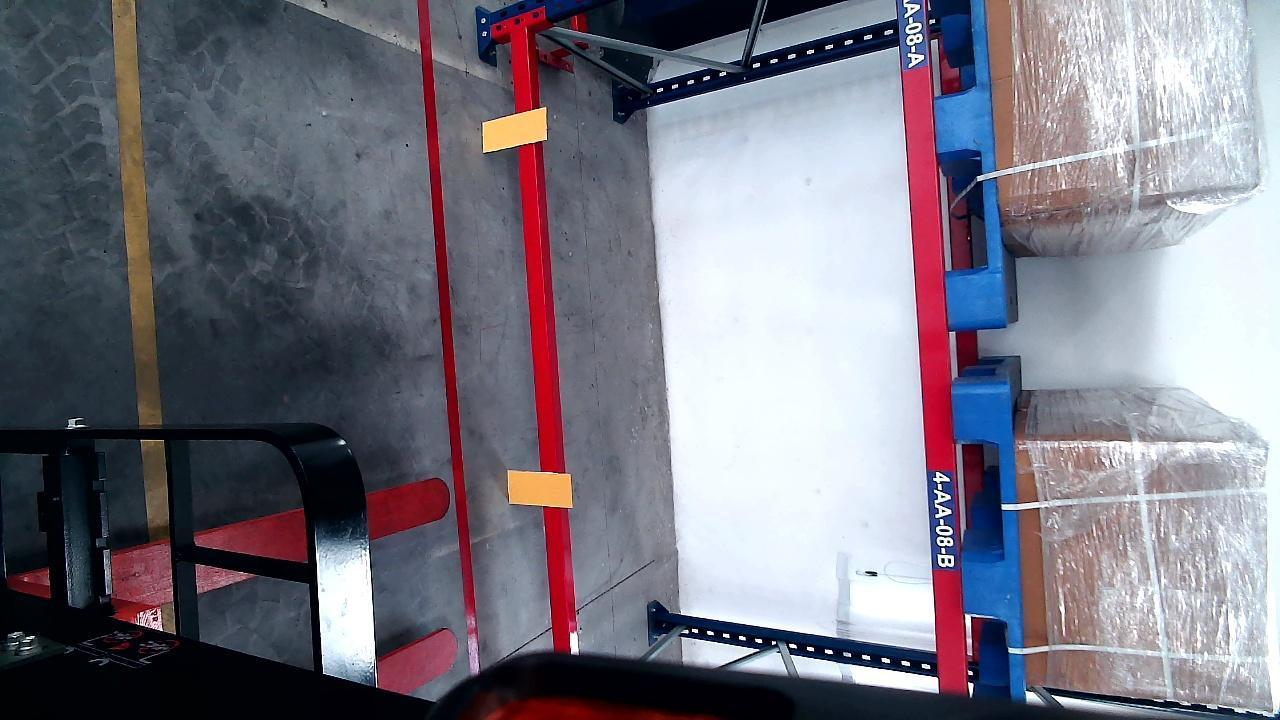h_rack: (514, 22, 572, 659)
orange_strip: (480, 108, 547, 153), (507, 470, 572, 508)
red_line: (414, 2, 485, 674)
small_pallet: (925, 0, 1006, 328), (956, 388, 1023, 695)
yellow_line: (106, 0, 170, 528)
